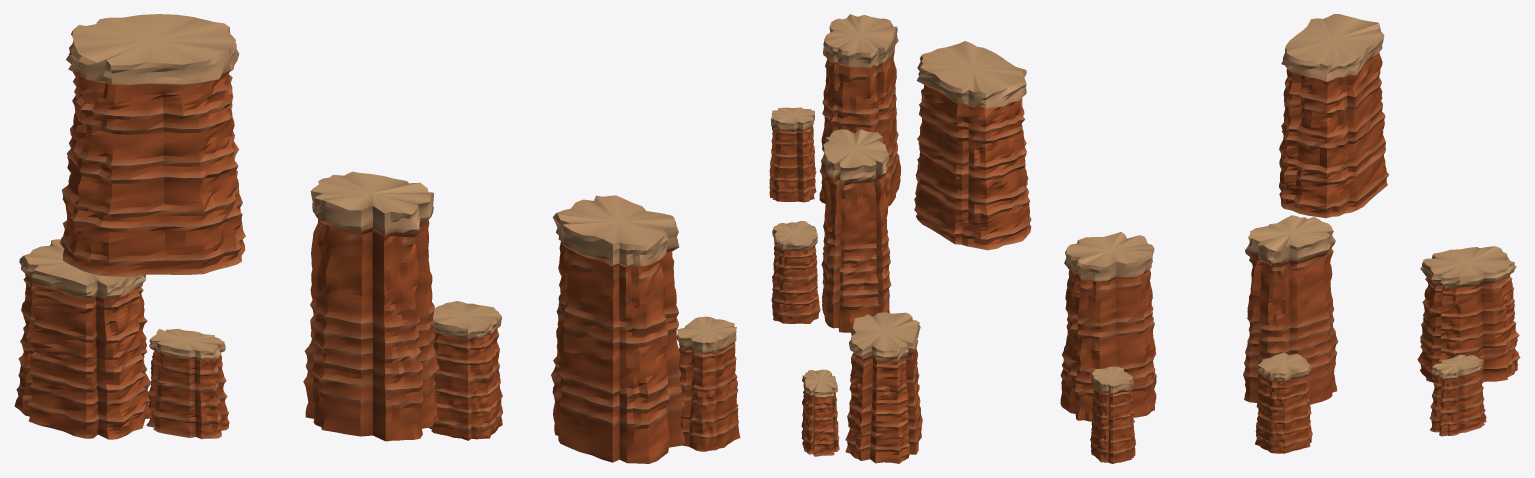
Rendered from terrain-077.glb.
The picture shows the model from 3 angles, left to right: view 1: azimuth 30°, elevation 25°; view 2: azimuth 150°, elevation 25°; view 3: azimuth 270°, elevation 25°; orthographic projection. The views are drawn at different scales.
Parts seen in each view (by area): view 1: terrain-077; view 2: terrain-077; view 3: terrain-077.
Part boxes in pixels (x1,y1,x2,y2): terrain-077: [14, 14, 740, 463]; terrain-077: [769, 14, 1031, 463]; terrain-077: [1060, 14, 1520, 463].
Bounding box in the file's own units: 138 × 125 × 151.
